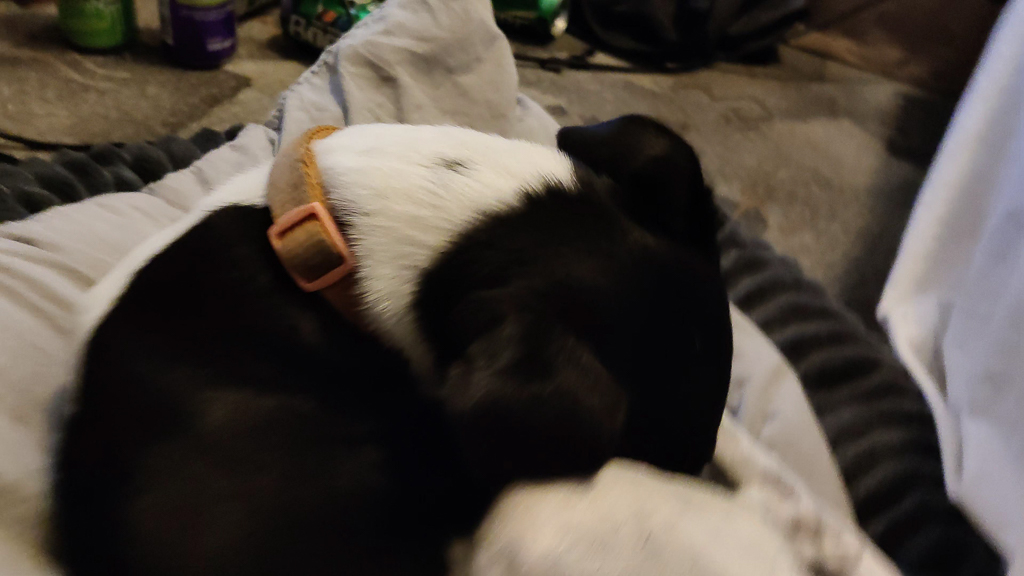Dog: (34, 87, 943, 576)
